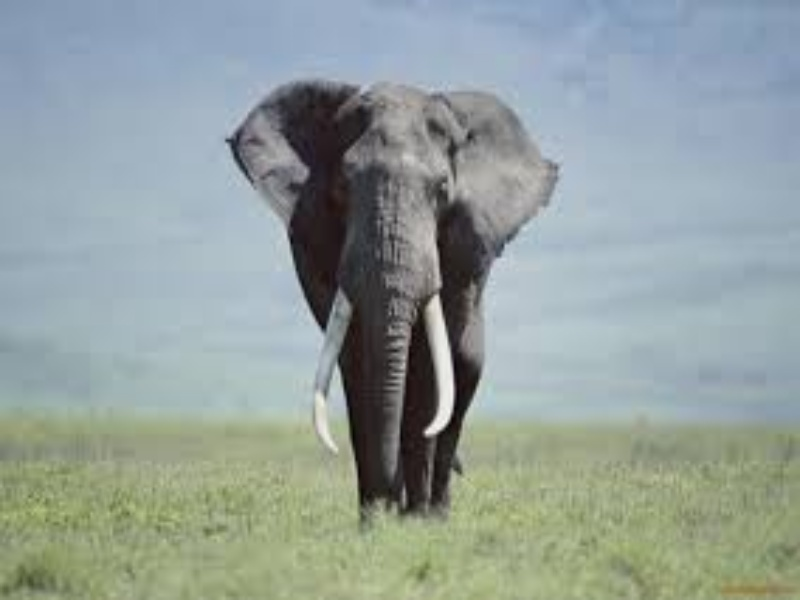elephant: (224, 73, 569, 549)
